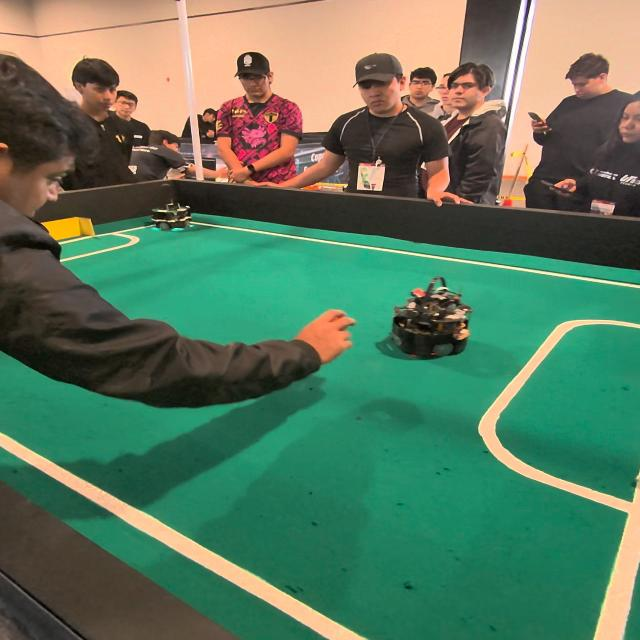Robot: (392, 280, 476, 364), (150, 180, 198, 238)
